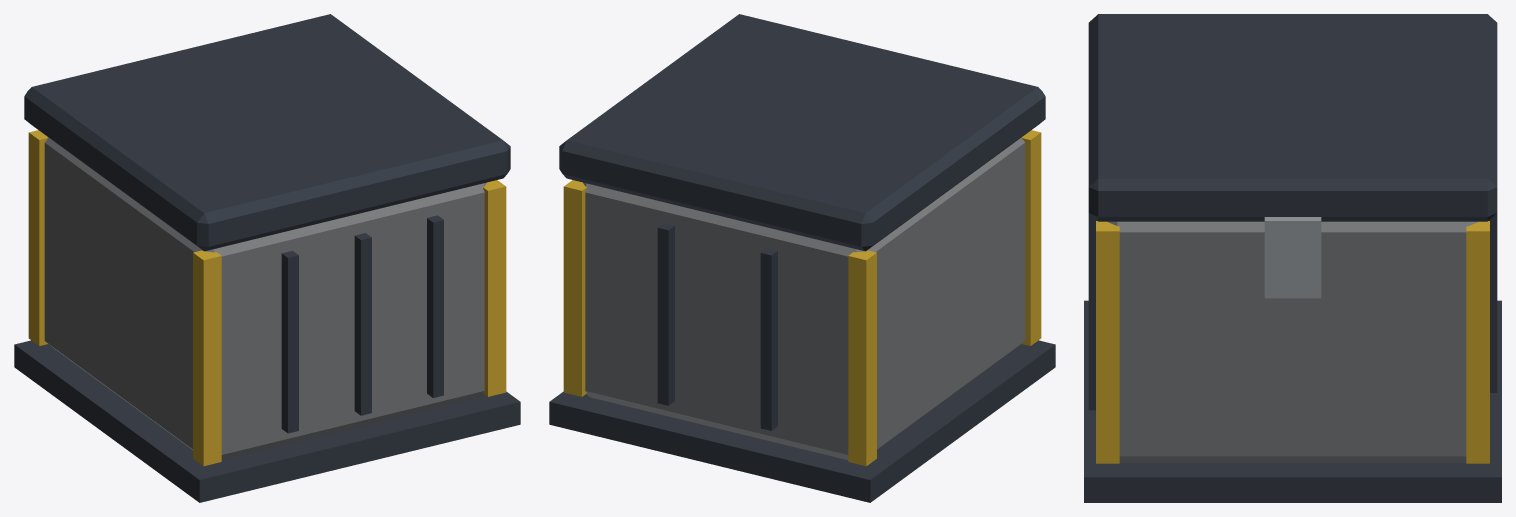
File: iron_chest.obj
3 views of the same model, side by side, from view 1: azimuth 30°, elevation 25°; view 2: azimuth 150°, elevation 25°; view 3: azimuth 270°, elevation 25° (orthographic). The views are drawn at different scales.
Parts seen in each view (by area): view 1: body; view 2: body; view 3: body.
Part boxes in pixels (left/top/right/bottom): body: left=14, top=14, right=520, bottom=502; body: left=549, top=14, right=1055, bottom=502; body: left=1084, top=14, right=1501, bottom=502.
Bounding box in the file's own units: 0.89 × 0.74 × 0.88.
